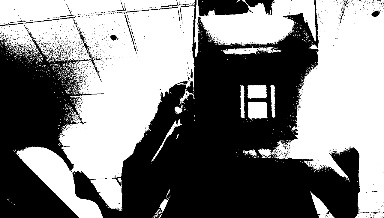H: (241, 83, 274, 118)
